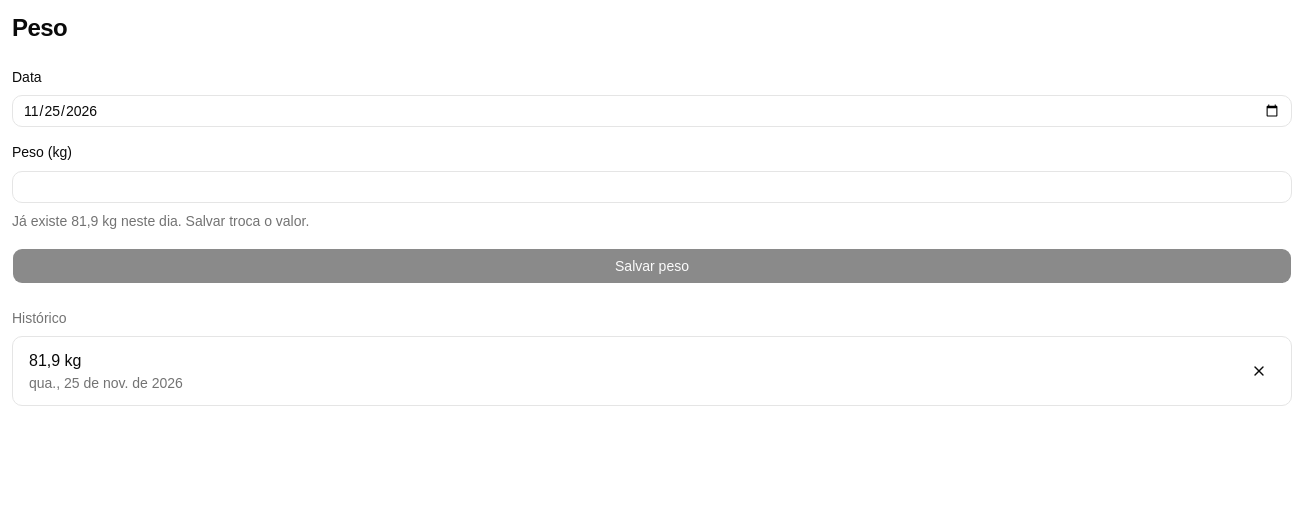
Test case: WeightPage › shows the problem when a weight cannot be deleted
Click the button named "Apagar o peso de qua., 25 de nov. de 2026": (1259, 370) left=1243, top=354, right=1275, bottom=386
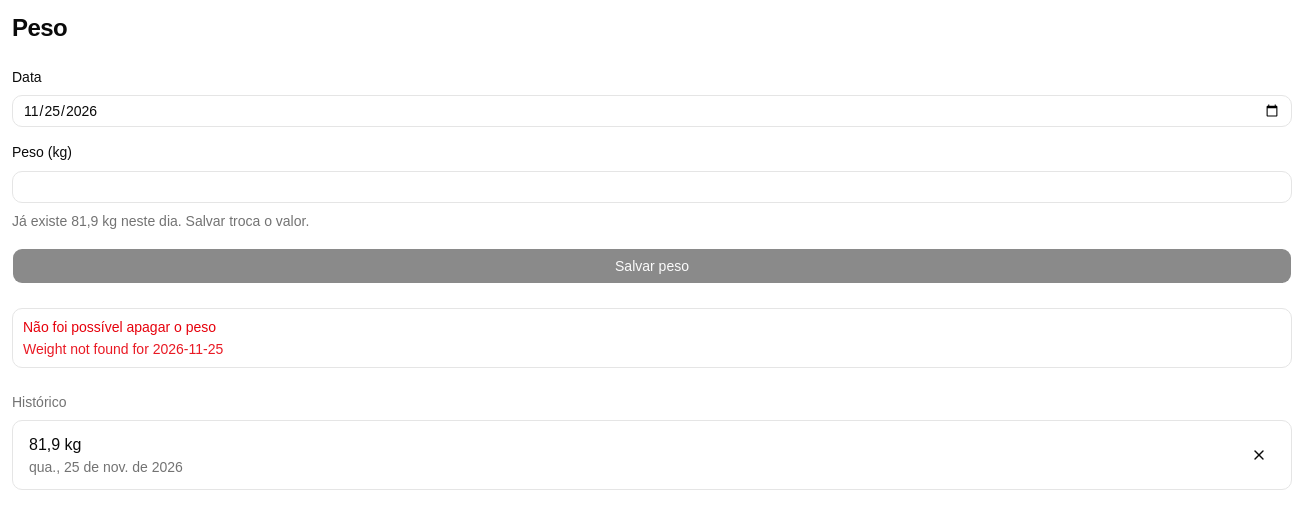
Now the text "Não foi possível apagar o peso" is shown, box left=23, top=318, right=216, bottom=334
Now the text "Weight not found for 2026-11-25" is shown, box left=23, top=340, right=223, bottom=356
